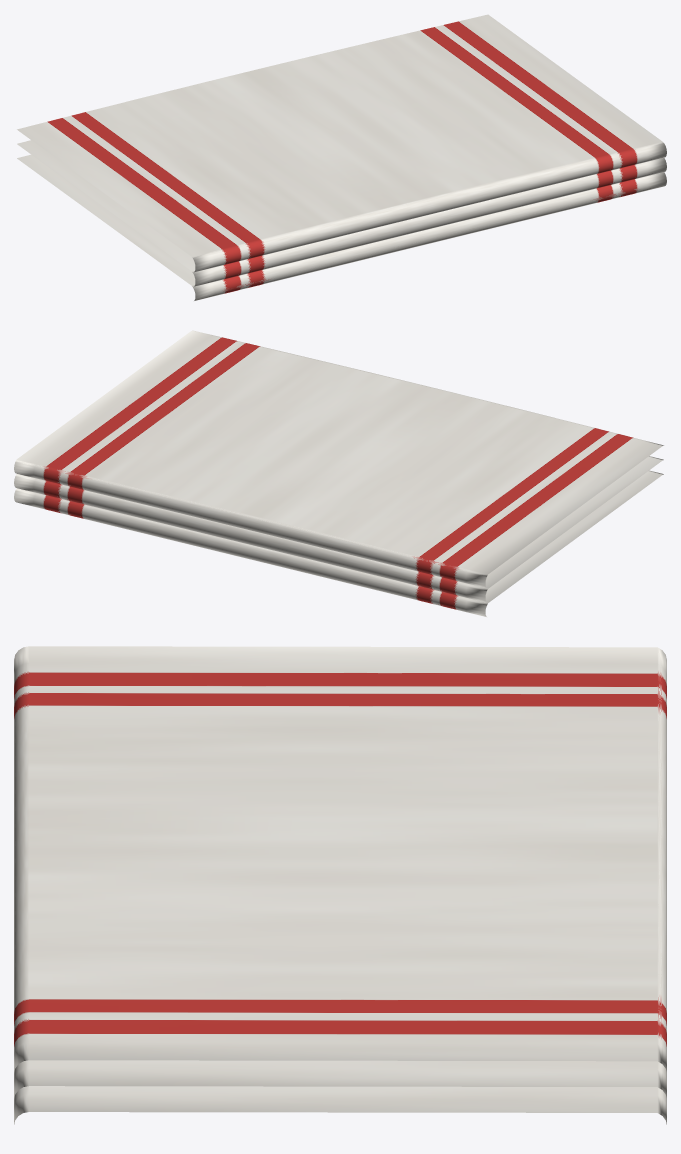
3 views of the same model, one above another, from view 1: azimuth 30°, elevation 25°; view 2: azimuth 150°, elevation 25°; view 3: azimuth 270°, elevation 25° (orthographic). The views are drawn at different scales.
Parts seen in each view (by area): view 1: Tea towel, folded; view 2: Tea towel, folded; view 3: Tea towel, folded.
Boxes of the visible parts, x1,y1,x2,y2 form: Tea towel, folded: [17, 14, 666, 300]; Tea towel, folded: [14, 330, 663, 616]; Tea towel, folded: [14, 646, 666, 1124].
Bounding box in the file's own units: 0.24 × 0.0222 × 0.16.
1 material, 1 textured.
